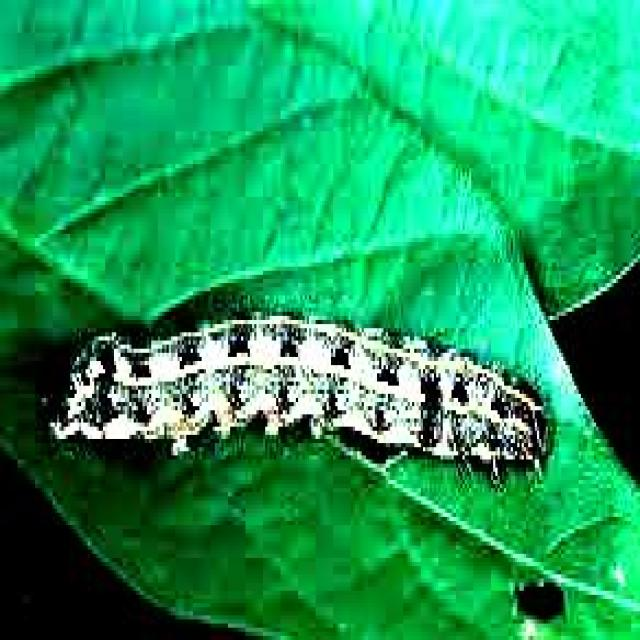armyworm: (49, 308, 552, 484)
